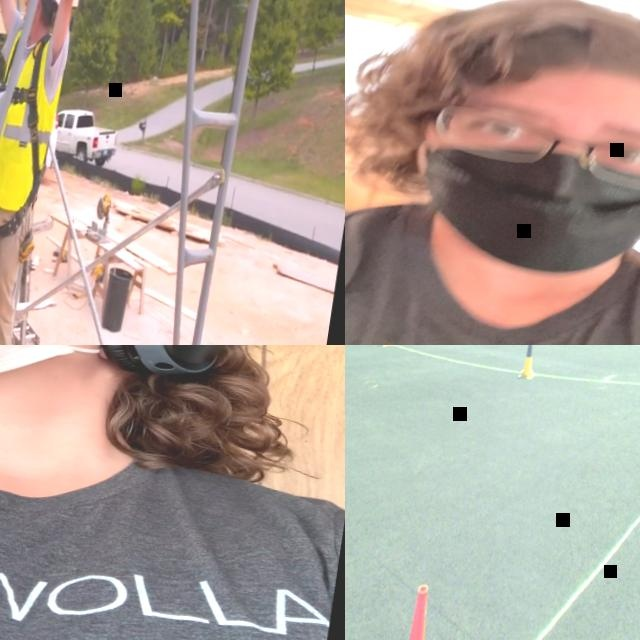Mask: (400, 133, 640, 288)
NO-Hardhat: (394, 0, 640, 136)
NO-Safety Vest: (0, 397, 345, 640), (345, 182, 640, 345)
Person: (345, 0, 640, 345), (0, 345, 345, 640), (0, 0, 91, 345)
Safety Cone: (400, 586, 438, 640), (518, 345, 540, 380)
Safety Vest: (0, 26, 69, 214)
vehicle: (0, 79, 63, 182), (51, 107, 122, 168)
